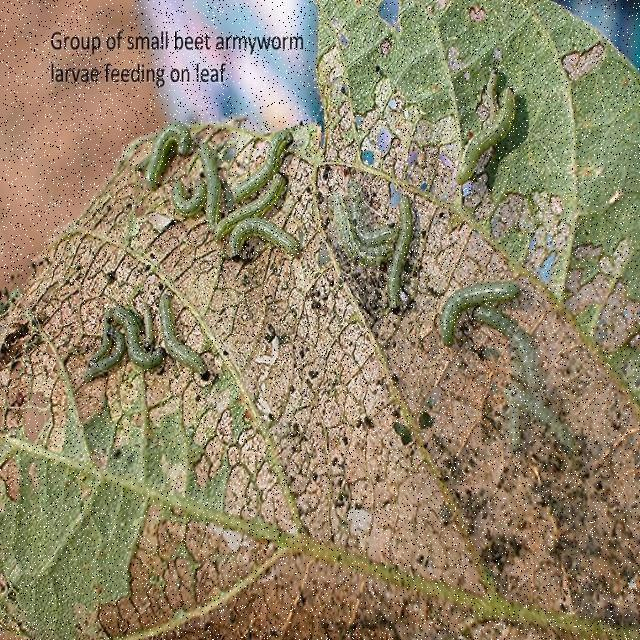army worm: (437, 55, 547, 200), (166, 127, 305, 239), (326, 169, 424, 323), (75, 292, 211, 396), (433, 259, 556, 343), (469, 298, 556, 398), (498, 398, 588, 480), (133, 107, 194, 187), (217, 215, 295, 267)
